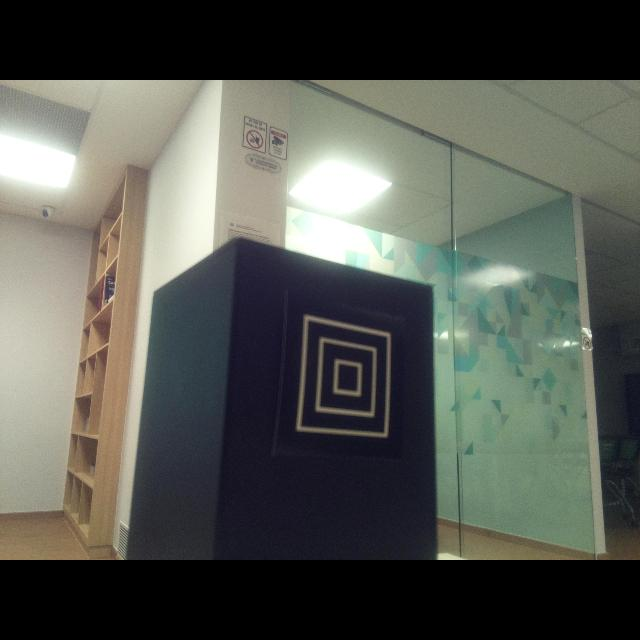BULLSEYE: (276, 294, 404, 457)
